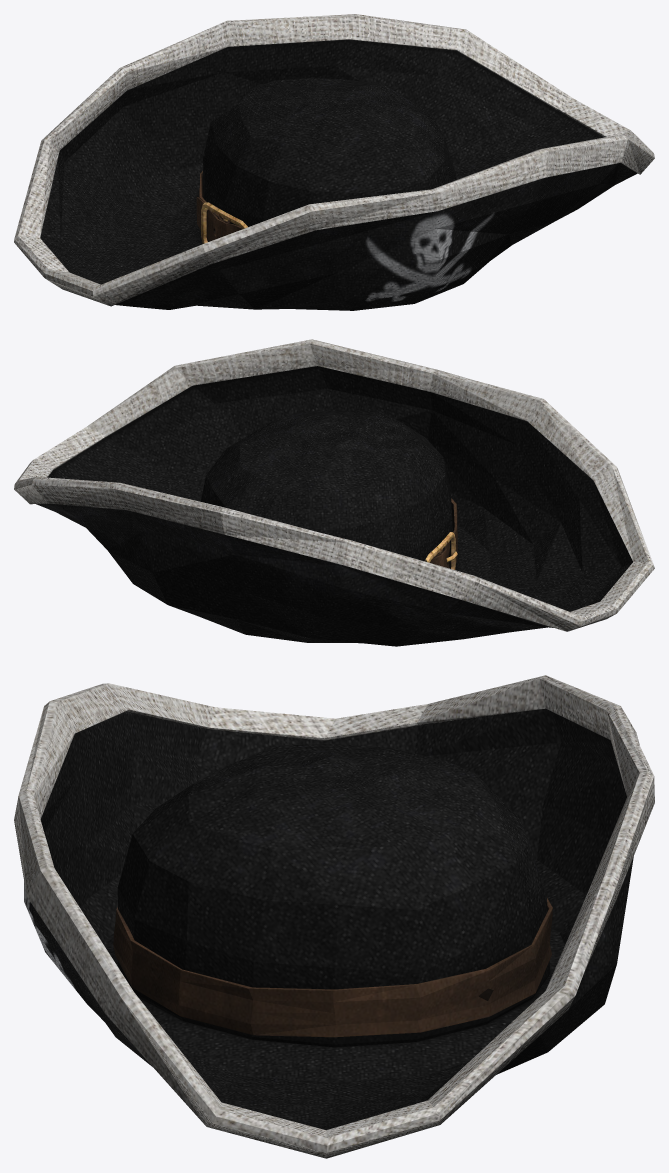
File: BicornHat.dae
3 renders of one model, top to bottom at view 1: azimuth 30°, elevation 25°; view 2: azimuth 150°, elevation 25°; view 3: azimuth 270°, elevation 25°, orthographic. The views are drawn at different scales.
Parts seen in each view (by area): view 1: Pirate_hat; view 2: Pirate_hat; view 3: Pirate_hat.
Boxes of the visible parts, left/top/right/bottom form: Pirate_hat: left=14, top=14, right=654, bottom=310; Pirate_hat: left=14, top=339, right=654, bottom=646; Pirate_hat: left=14, top=675, right=654, bottom=1158.
Bounding box in the file's own units: 0.4317 × 0.1037 × 0.2757.
Materials: 1 (1 with a texture image).
